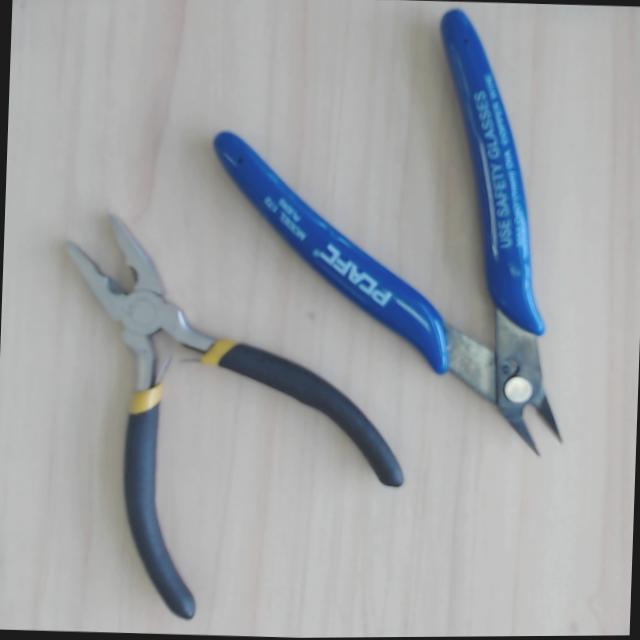Tang-Jepit-Hitam: (0, 156, 408, 625)
